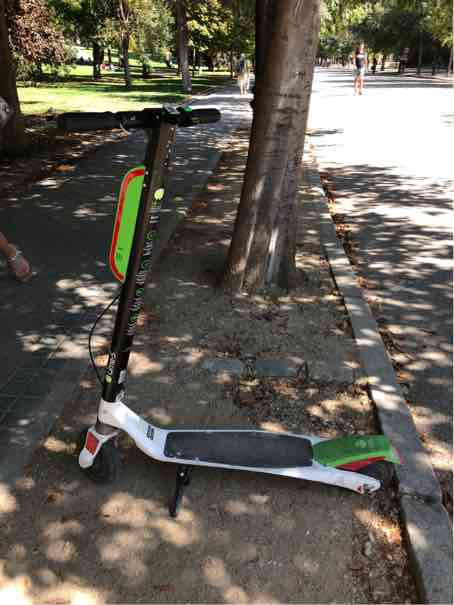scooter: (45, 94, 411, 507)
